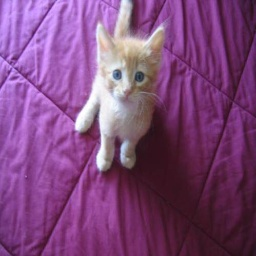cat: (71, 4, 169, 171)
